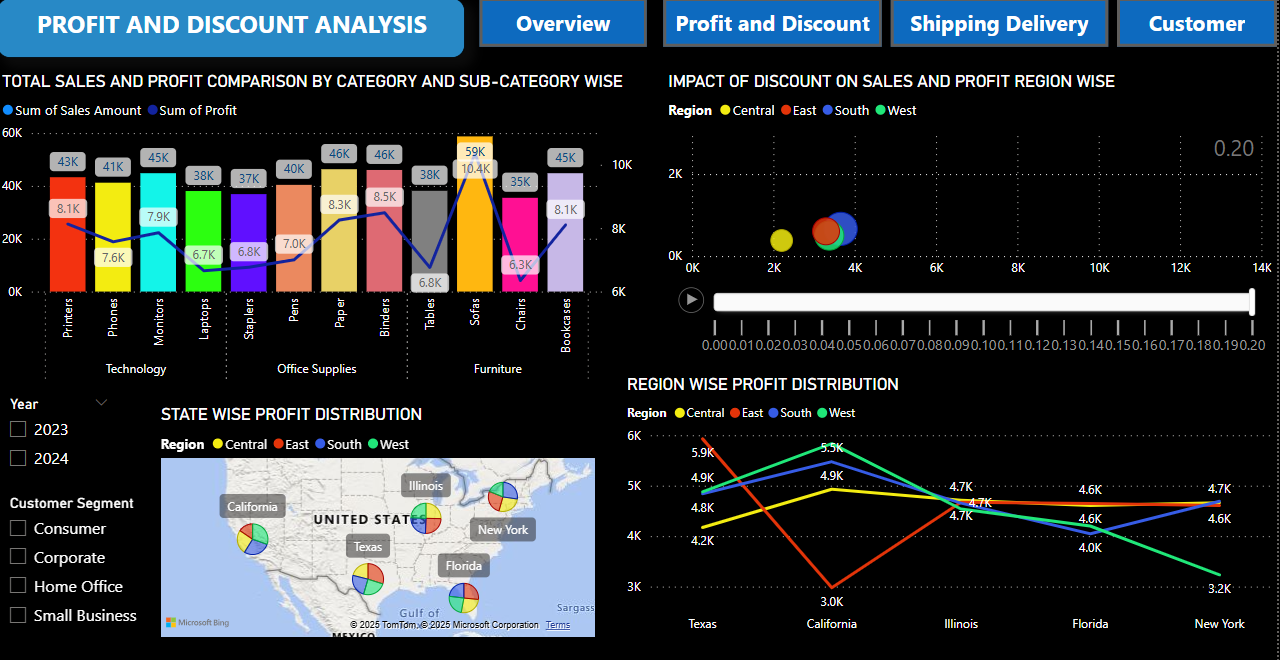

The page's visual inventory and layout, read from the dashboard file:
{"tool":"powerbi","page":{"name":"Profit And Discount","canvas":[1280,720],"ordinal":1},"visuals":[{"type":"lineStackedColumnComboChart","title":"TOTAL SALES AND PROFIT COMPARISON BY CATEGORY AND SUB-CATEGORY WISE","fields":{"Category":["Superstore.Category","Superstore.Sub-Category"],"Y":["Sum(Superstore.Sales Amount)"],"Y2":["Sum(Superstore.Profit)"]},"box":[0,72.2,640,320],"z":0},{"type":"lineChart","title":"REGION WISE PROFIT DISTRIBUTION","fields":{"Category":["Superstore.State"],"Series":["Superstore.Region"],"Y":["Sum(Superstore.Profit)"]},"box":[625.6,376.7,654.4,267.8],"z":1000},{"type":"map","title":"STATE WISE PROFIT DISTRIBUTION ","fields":{"Category":["Superstore.State"],"Series":["Superstore.Region"],"Size":["Sum(Superstore.Profit)1"]},"box":[158.9,406.7,444.4,237.8],"z":2000},{"type":"scatterChart","title":"IMPACT OF DISCOUNT ON SALES AND PROFIT  REGION WISE","fields":{"Series":["Superstore.Region"],"Size":["Sum(Superstore.Discount)"],"Play":["Superstore.Discount"],"Y":["Sum(Superstore.Profit)"],"X":["Sum(Superstore.Sales Amount)"]},"box":[666.7,72.2,613.3,295.6],"z":3000},{"type":"slicer","fields":{"Values":["Superstore.Year"]},"box":[0,392.2,123.3,98.9],"z":4000},{"type":"slicer","fields":{"Values":["Superstore.Customer Segment"]},"box":[0,491.1,158.9,153.3],"z":5000},{"type":"textbox","box":[0,0,468.2,59.9],"z":6000},{"type":"actionButton","box":[1120,0,160,48.8],"z":10003},{"type":"actionButton","box":[893.8,0,217.5,48.8],"z":10004},{"type":"actionButton","box":[482.5,0,167.5,48.8],"z":10005},{"type":"actionButton","box":[666.2,0,218.8,48.8],"z":10006}]}

Visuals, with their boxes on the page's 1280x720 design canvas (x1, y1, x2, y2). These are canvas units, not pixel positions in the 1280x660 screenshot, which may show the page scaled, cropped or inside an application window:
"TOTAL SALES AND PROFIT COMPARISON BY CATEGORY AND SUB-CATEGORY WISE" lineStackedColumnComboChart: detection(0, 72, 640, 392)
"REGION WISE PROFIT DISTRIBUTION" lineChart: detection(626, 377, 1280, 644)
"STATE WISE PROFIT DISTRIBUTION " map: detection(159, 407, 603, 644)
"IMPACT OF DISCOUNT ON SALES AND PROFIT  REGION WISE" scatterChart: detection(667, 72, 1280, 368)
slicer - Superstore.Year: detection(0, 392, 123, 491)
slicer - Superstore.Customer Segment: detection(0, 491, 159, 644)
textbox: detection(0, 0, 468, 60)
actionButton: detection(1120, 0, 1280, 49)
actionButton: detection(894, 0, 1111, 49)
actionButton: detection(482, 0, 650, 49)
actionButton: detection(666, 0, 885, 49)
